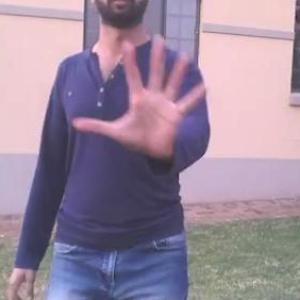follow_hand: (74, 28, 212, 166)
